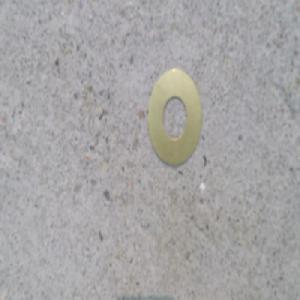Washer: (145, 65, 202, 168)
